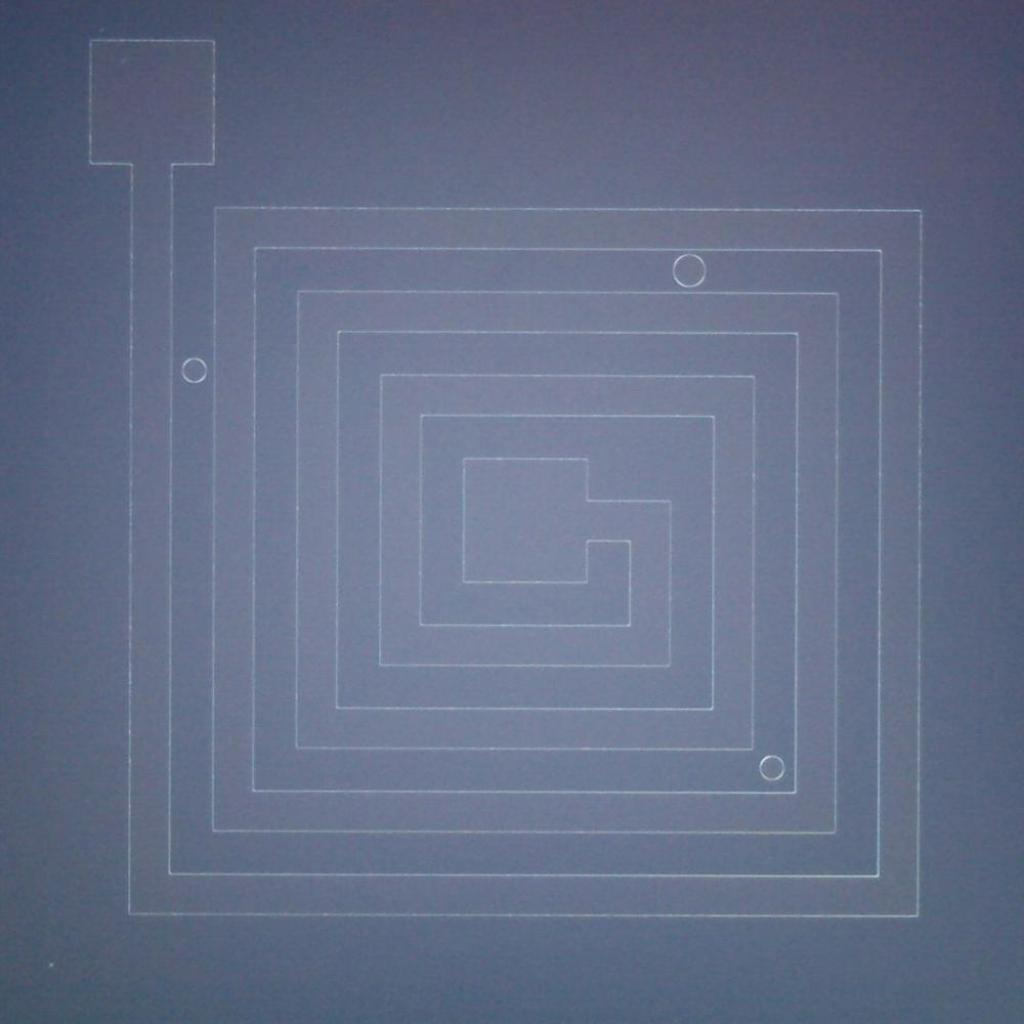dot: (48, 962, 54, 968)
